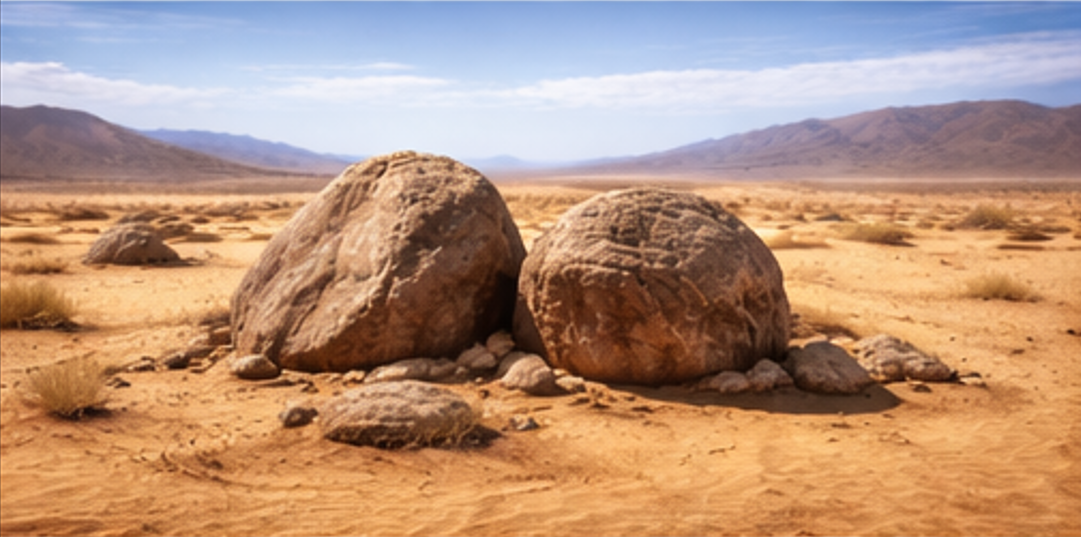rocks: (232, 151, 524, 368), (514, 187, 787, 382), (321, 382, 475, 445), (854, 333, 954, 381), (781, 341, 873, 392), (82, 223, 179, 263), (501, 354, 566, 395), (366, 358, 457, 382), (230, 354, 280, 377), (278, 404, 317, 427)
